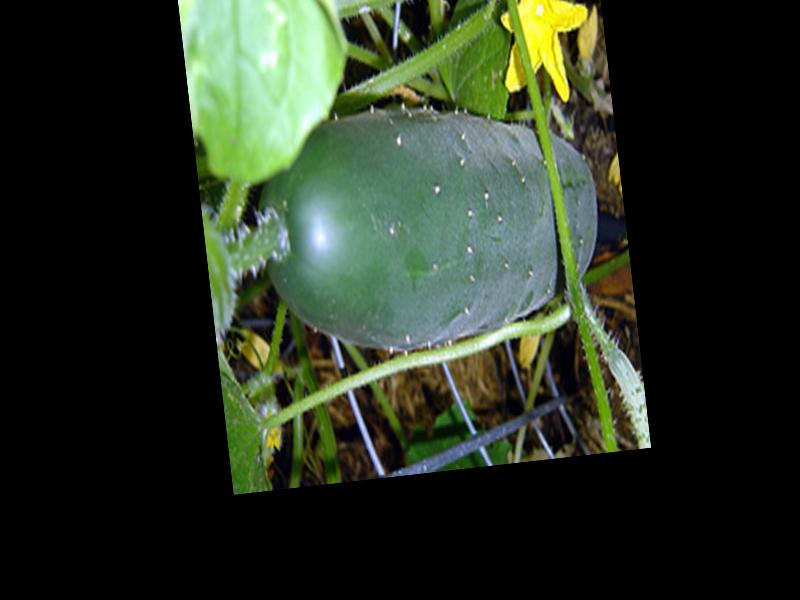Cucumber: (244, 87, 607, 363)
